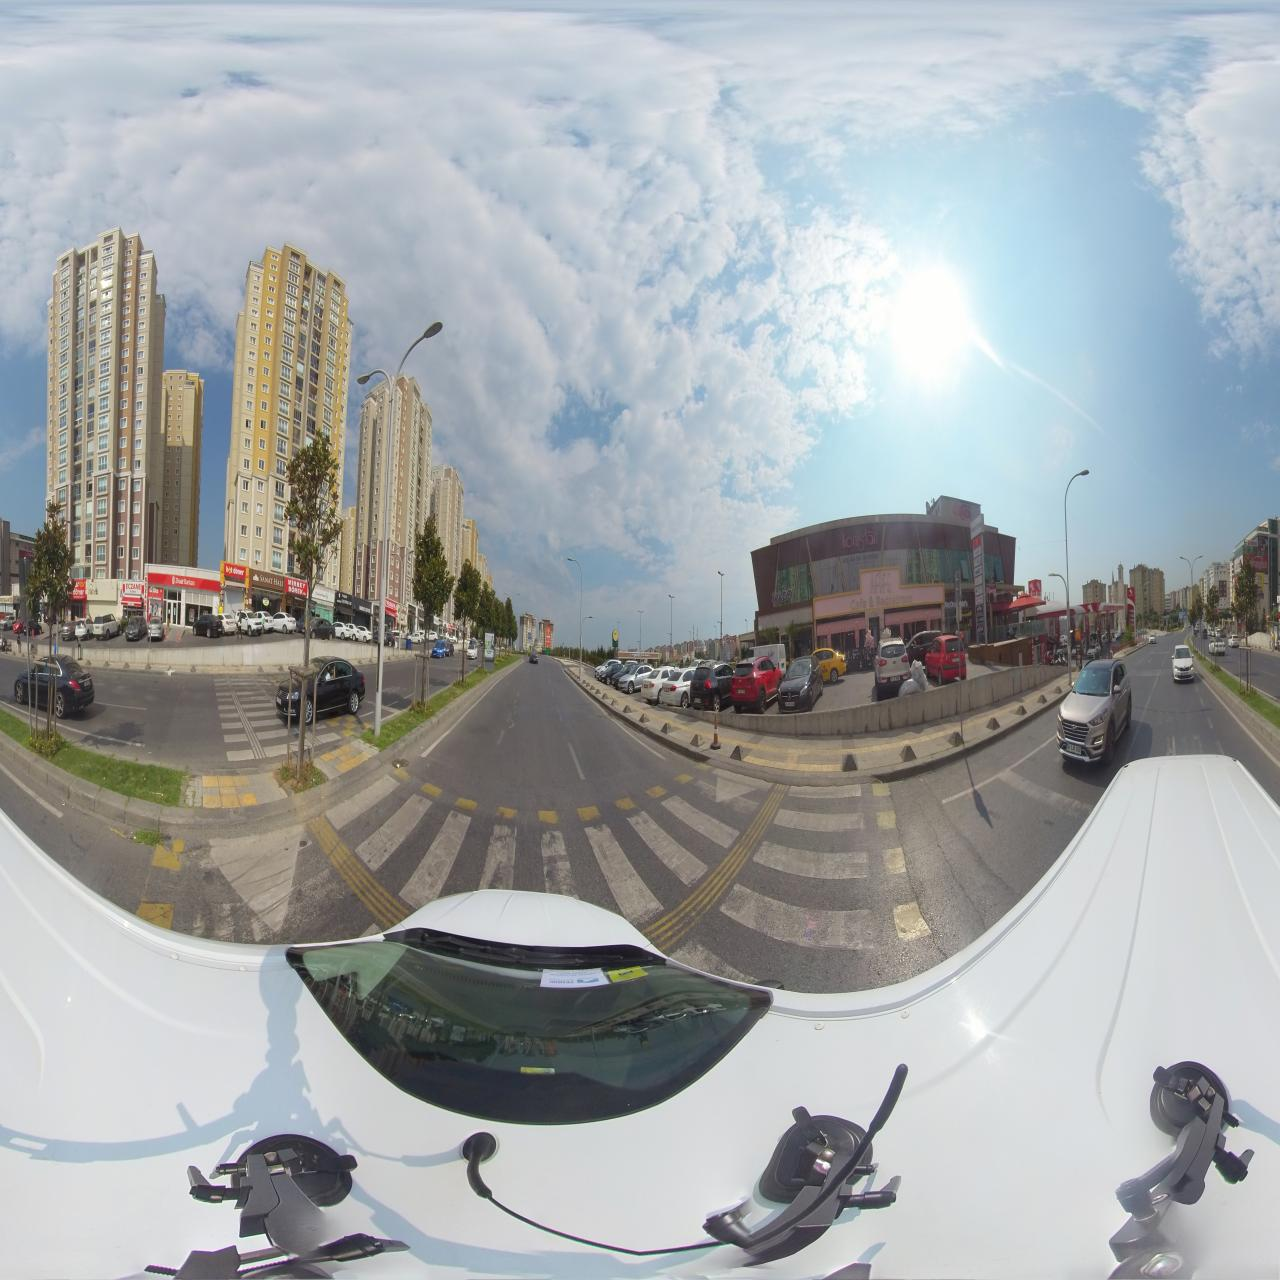SignStore: (252, 568, 284, 591), (168, 574, 206, 590), (286, 578, 307, 597), (225, 564, 245, 579), (123, 581, 143, 595), (336, 591, 352, 608), (315, 586, 331, 602), (73, 579, 86, 597), (359, 601, 372, 614), (386, 599, 396, 612), (0, 597, 13, 604), (401, 606, 407, 618)
